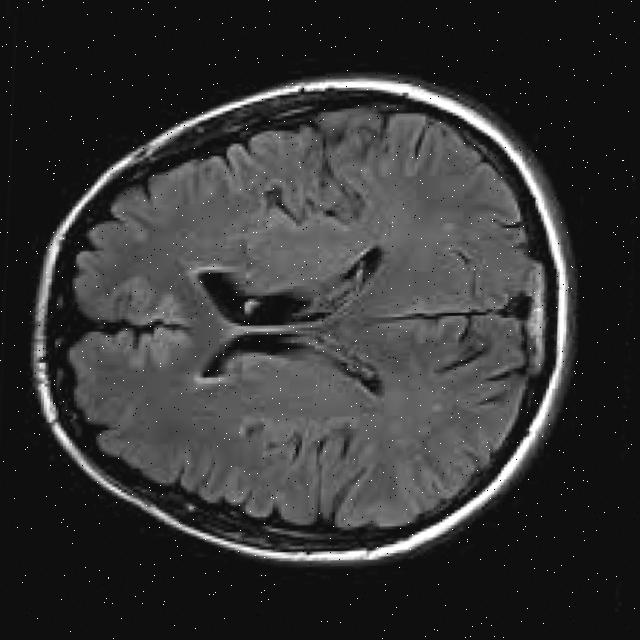NoTumor: (18, 48, 592, 584)
